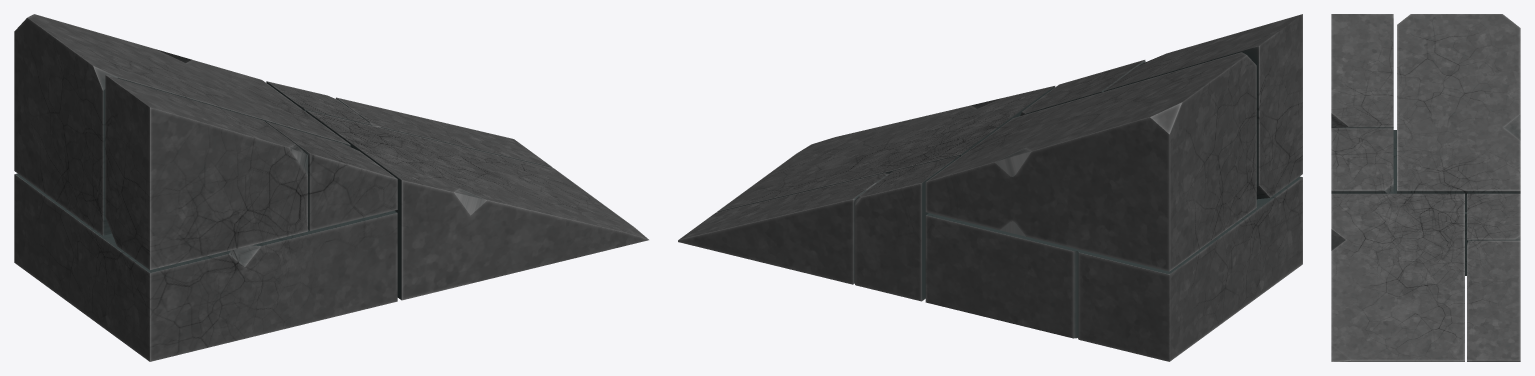
The model's file is Batu Jumping.fbx.
3 renders of one model, left to right at view 1: azimuth 30°, elevation 25°; view 2: azimuth 150°, elevation 25°; view 3: azimuth 270°, elevation 25°, orthographic. The views are drawn at different scales.
Visible parts, largest first — view 1: Cube.001; view 2: Cube.001; view 3: Cube.001.
Part boxes in pixels (x1=…): Cube.001: x1=14, y1=14, x2=648, y2=361; Cube.001: x1=678, y1=14, x2=1302, y2=361; Cube.001: x1=1331, y1=14, x2=1520, y2=361.
Bounding box in the file's own units: 624 × 304 × 293.
Materials: 1 (1 with a texture image).
